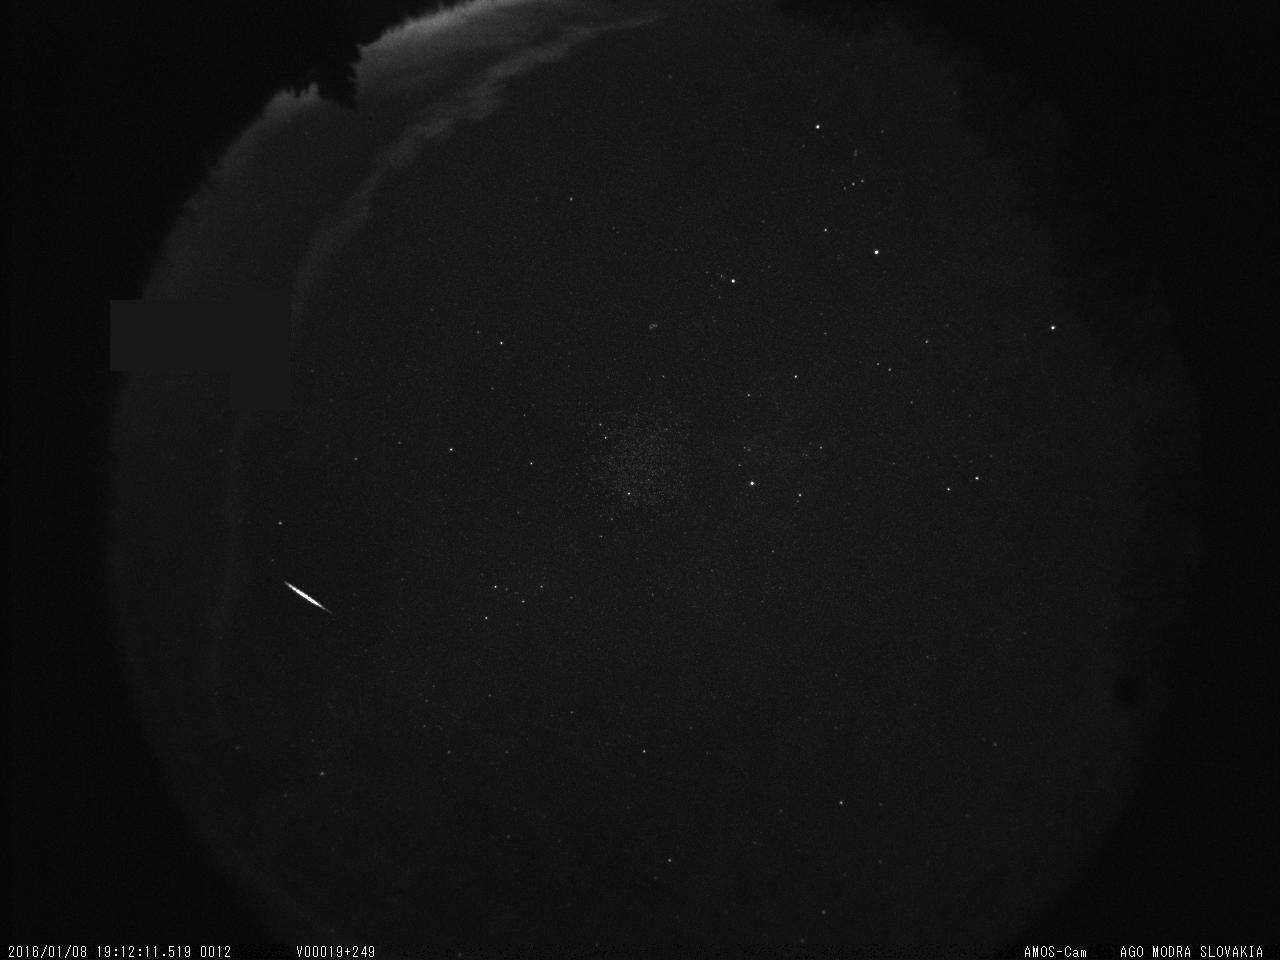meteor: (258, 567, 373, 630)
